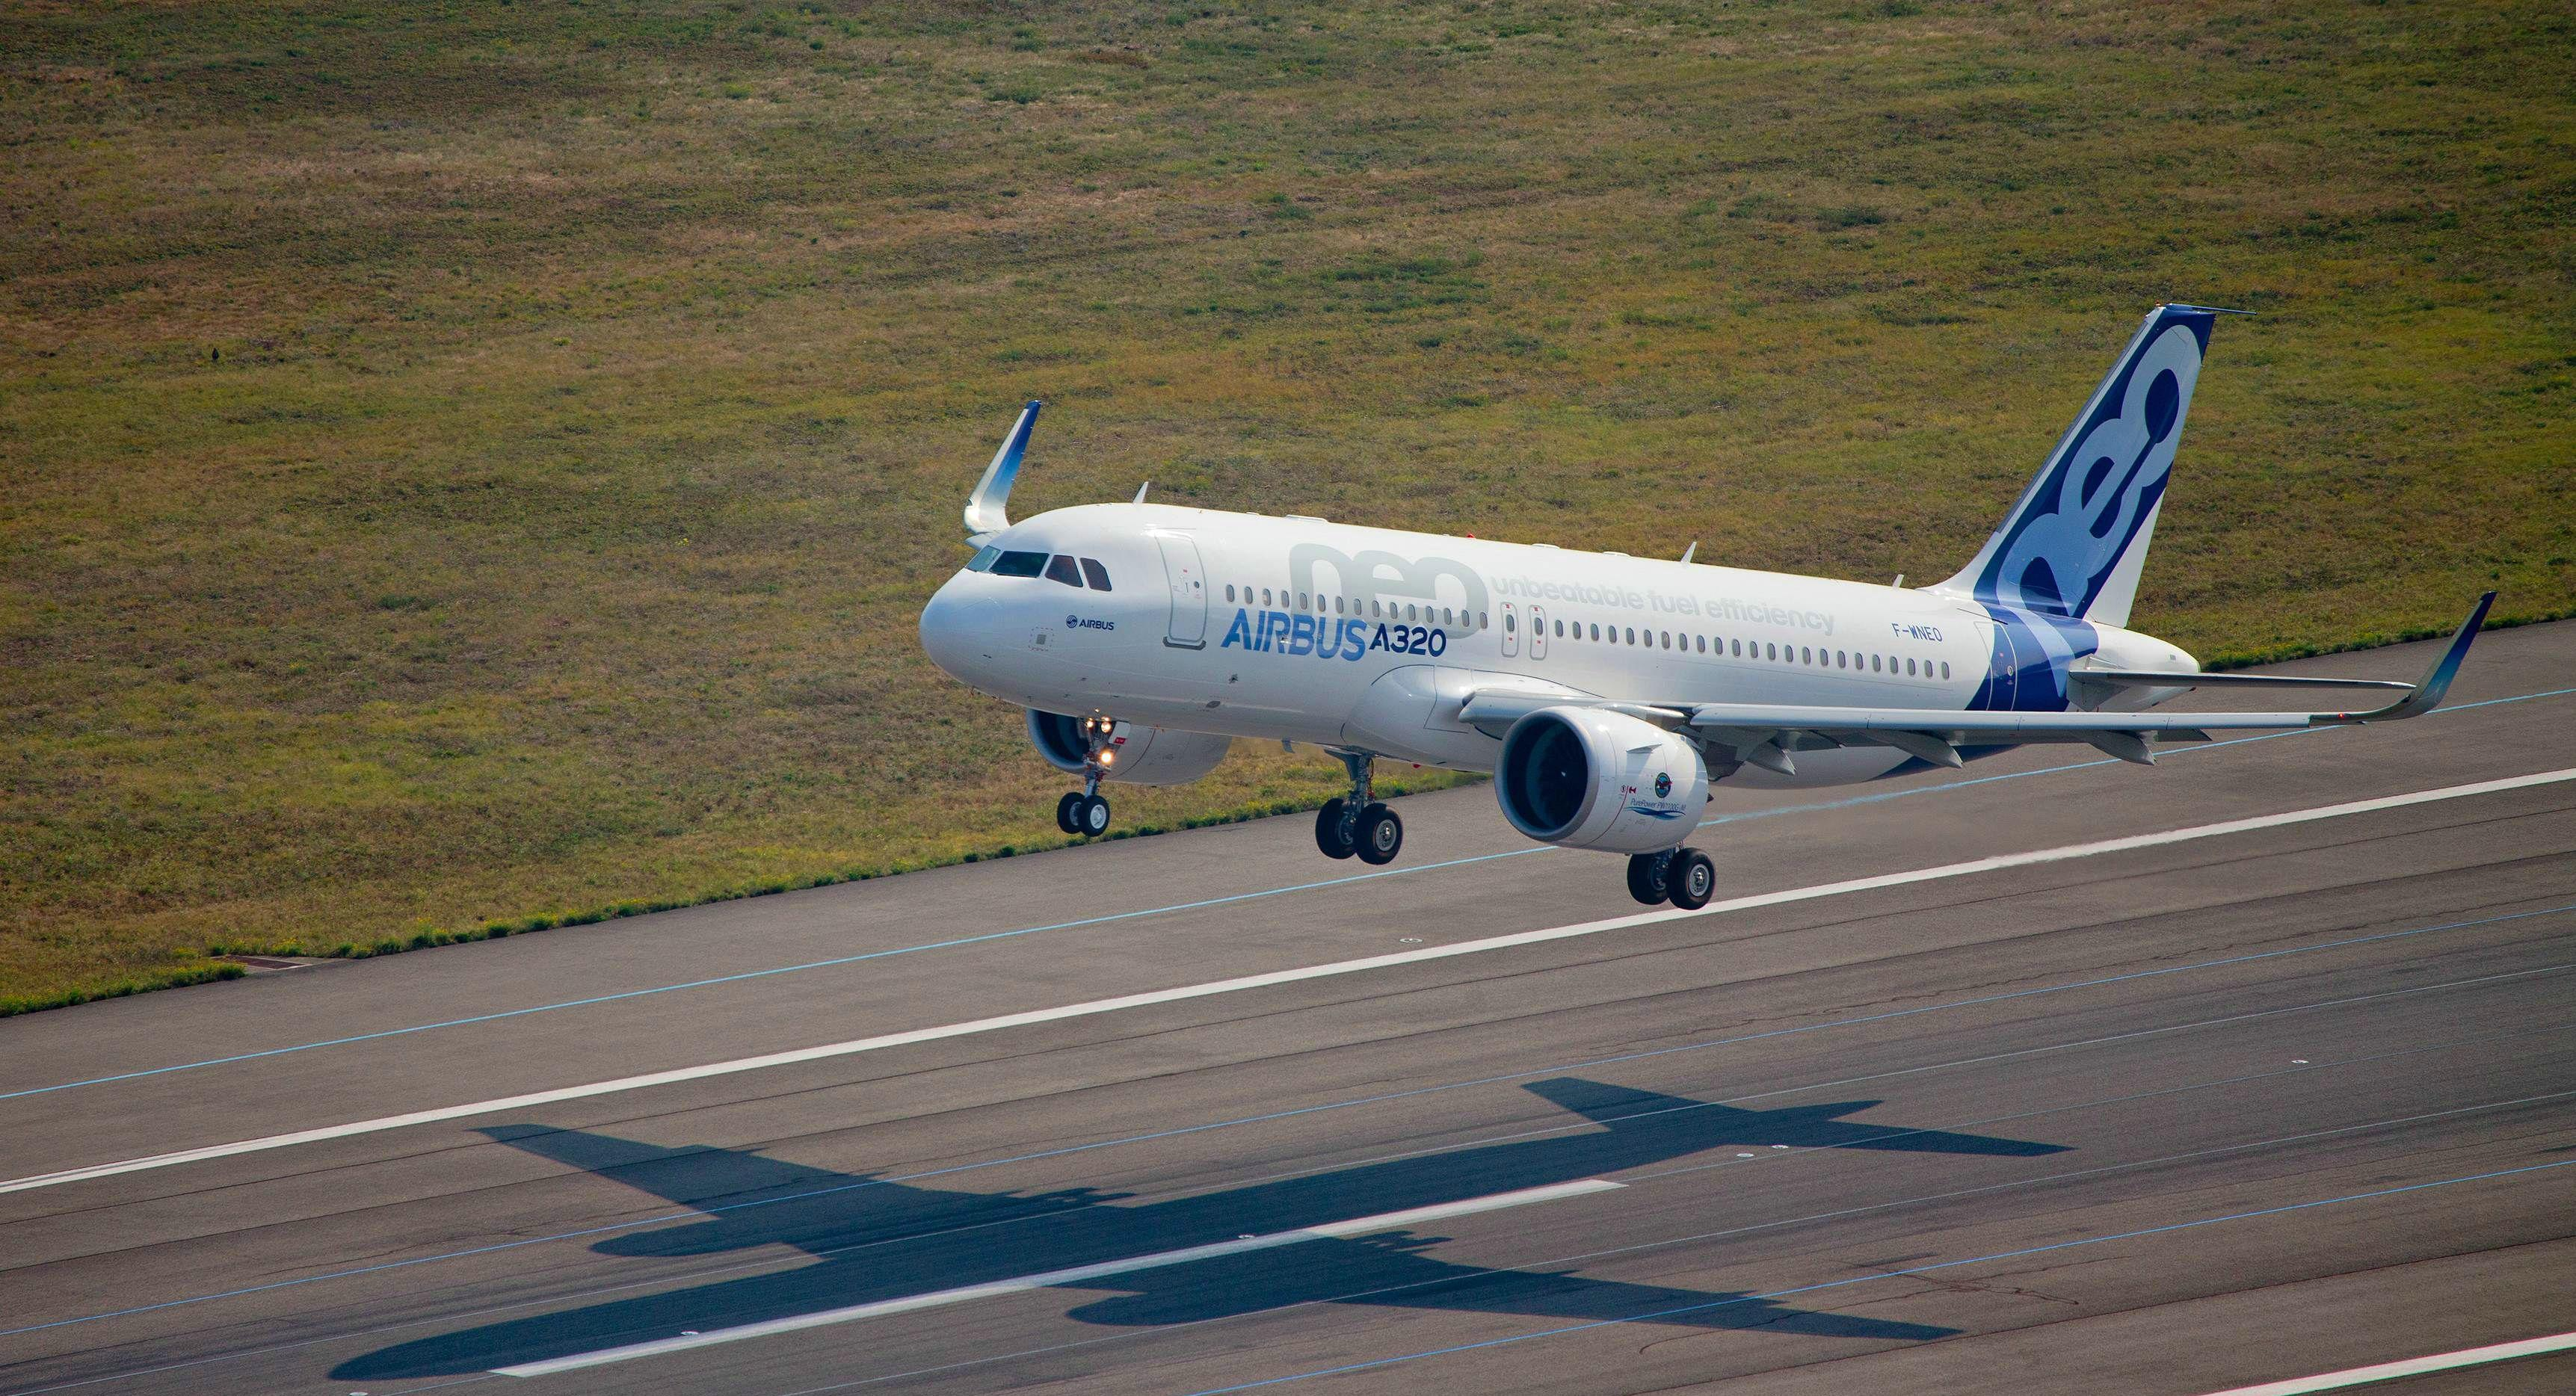airplane: (922, 292, 2507, 928)
